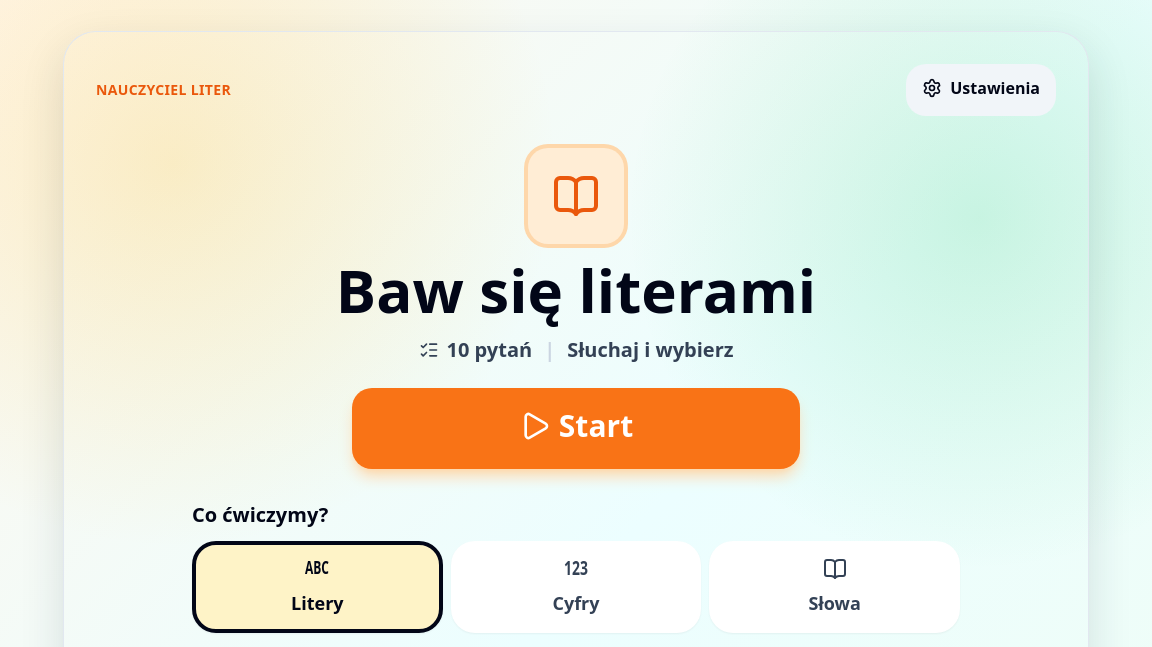
Test: App › starts on a child-friendly home screen with parent setup controls moved to settings
Expected: the button "Start" is shown, [352,388,800,469]
Expected: the button "123 Cyfry" is shown, [451,541,701,633]
Click the button "Ustawienia". click: (981, 90)
box: [906,64,1056,116]
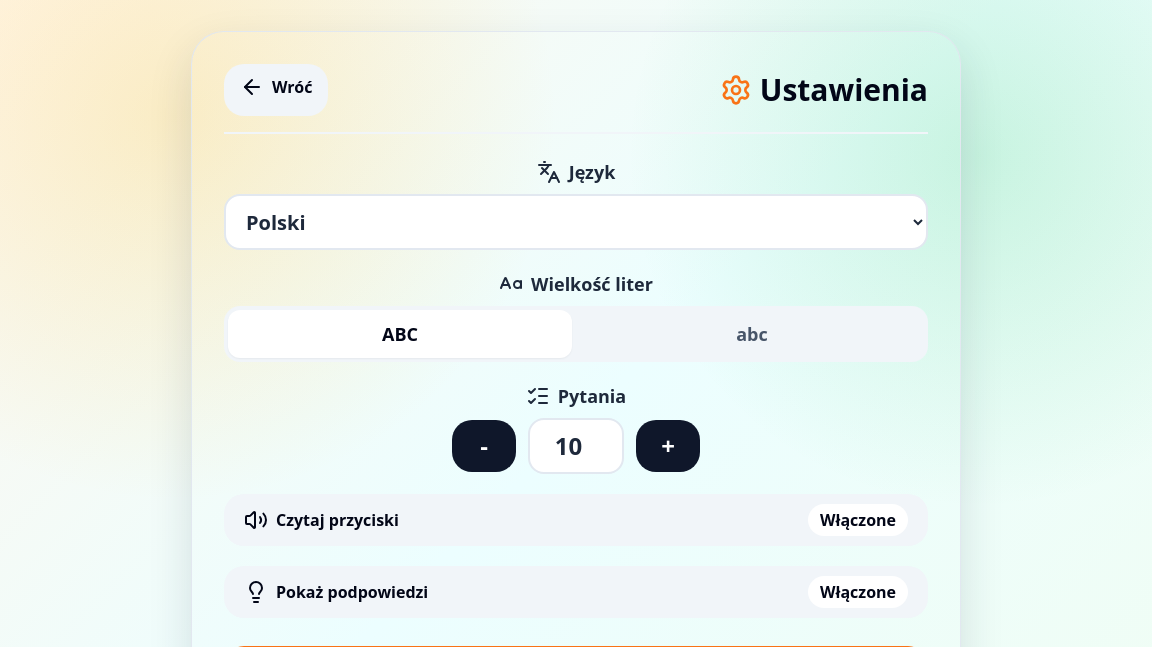
Expected: the dropdown labelled "Język" is shown, [224,194,928,250]
Expected: the number field is shown, [528,418,624,474]
Expected: the button "Cyfry" is gone
